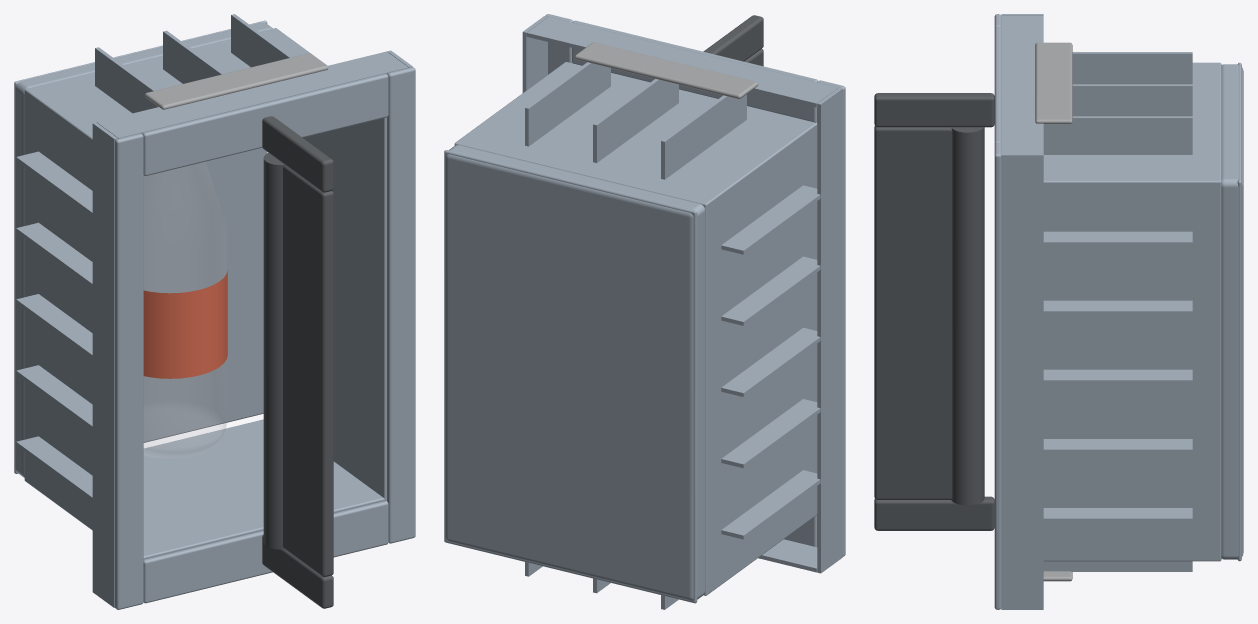
The picture shows the model from 3 angles, left to right: view 1: azimuth 30°, elevation 25°; view 2: azimuth 150°, elevation 25°; view 3: azimuth 270°, elevation 25°; orthographic projection. The views are drawn at different scales.
Parts seen in each view (by area): view 1: /World/Totes/R00/Visual/TotePolypropylene, /World/Totes/R00/Visual/ToteRail, /World/Totes/R00/Goods0/Visual/PolystyreneClear, /World/Totes/R00/Goods0/Visual/PrintedLabel, /World/Totes/R00/Visual/PlasticGrey; view 2: /World/Totes/R00/Visual/TotePolypropylene, /World/Totes/R00/Visual/PlasticGrey, /World/Totes/R00/Visual/ToteRail; view 3: /World/Totes/R00/Visual/TotePolypropylene, /World/Totes/R00/Visual/ToteRail, /World/Totes/R00/Visual/PlasticGrey.
Part boxes in pixels (x1,y1,x2,y2): /World/Totes/R00/Visual/TotePolypropylene: (14, 14, 415, 609); /World/Totes/R00/Visual/ToteRail: (262, 116, 333, 608); /World/Totes/R00/Goods0/Visual/PolystyreneClear: (144, 162, 226, 458); /World/Totes/R00/Goods0/Visual/PrintedLabel: (143, 270, 227, 378); /World/Totes/R00/Visual/PlasticGrey: (144, 53, 328, 109); /World/Totes/R00/Visual/TotePolypropylene: (444, 14, 845, 609); /World/Totes/R00/Visual/PlasticGrey: (575, 42, 758, 99); /World/Totes/R00/Visual/ToteRail: (703, 15, 763, 66); /World/Totes/R00/Visual/TotePolypropylene: (994, 14, 1243, 609); /World/Totes/R00/Visual/ToteRail: (874, 93, 994, 530); /World/Totes/R00/Visual/PlasticGrey: (1035, 42, 1072, 581).
Bounding box in the file's own units: 0.198 × 0.301 × 0.218.
